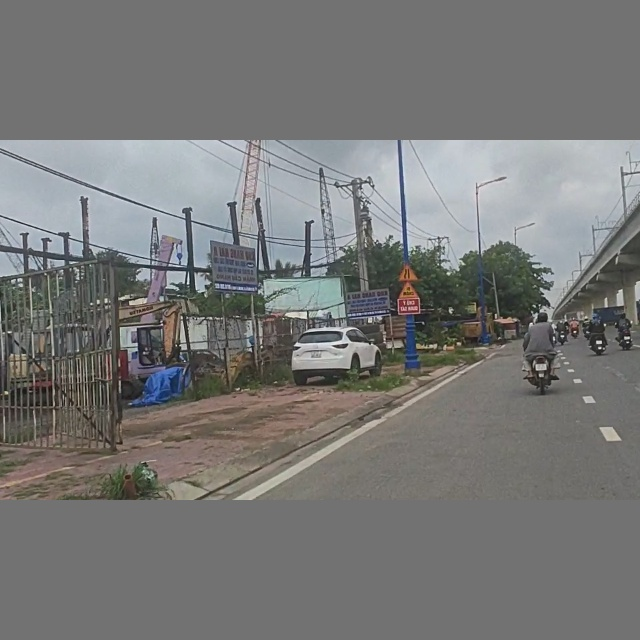W.203c: (397, 264, 419, 281)
W.245a: (396, 281, 420, 299)
